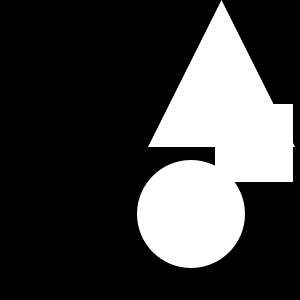circle: (215, 104, 293, 182)
rectangle: (137, 160, 245, 268)
triangle: (148, 0, 295, 147), (230, 103, 283, 156)
